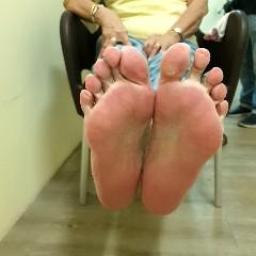Plantar View -Both Feet-: (54, 32, 244, 223)
